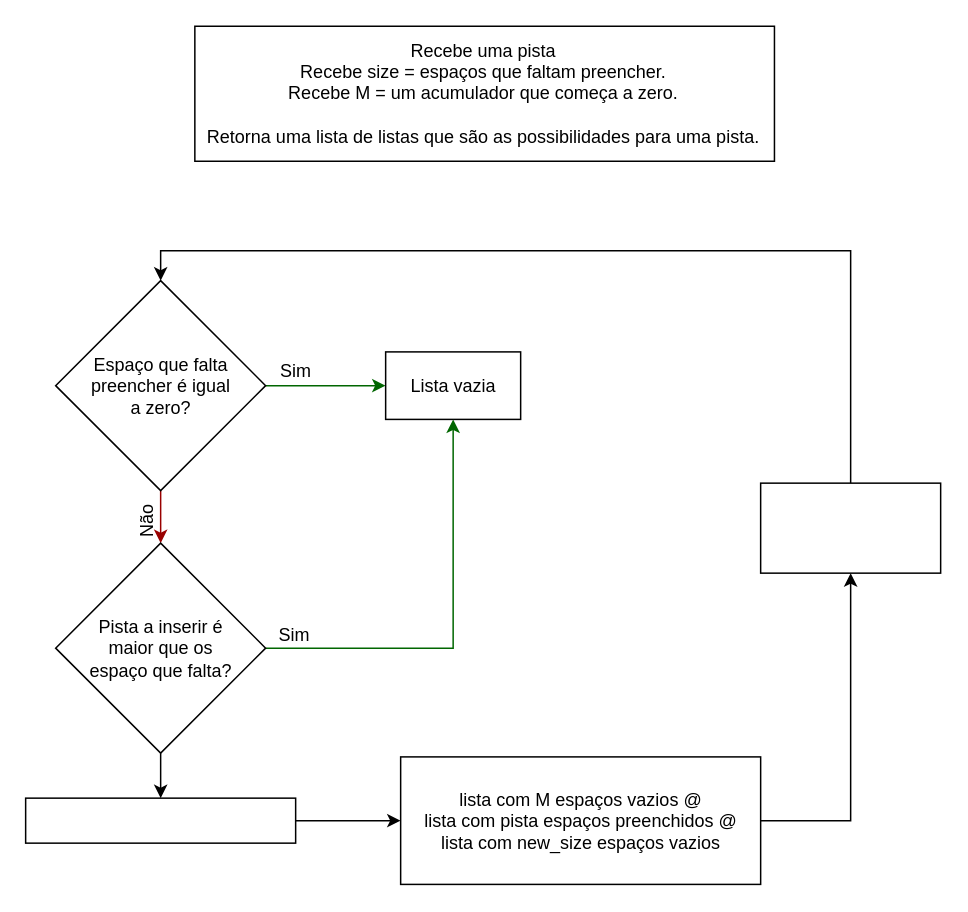
Image size: 968x912. Some labels were removed from this diagram. Here are the shapes that lost their labels. From the top down, the box of each, then its label:
(759, 482, 941, 573): :: chamada recursiva com menos um espaço e M+1
(24, 797, 296, 843): new_size = size - pista
